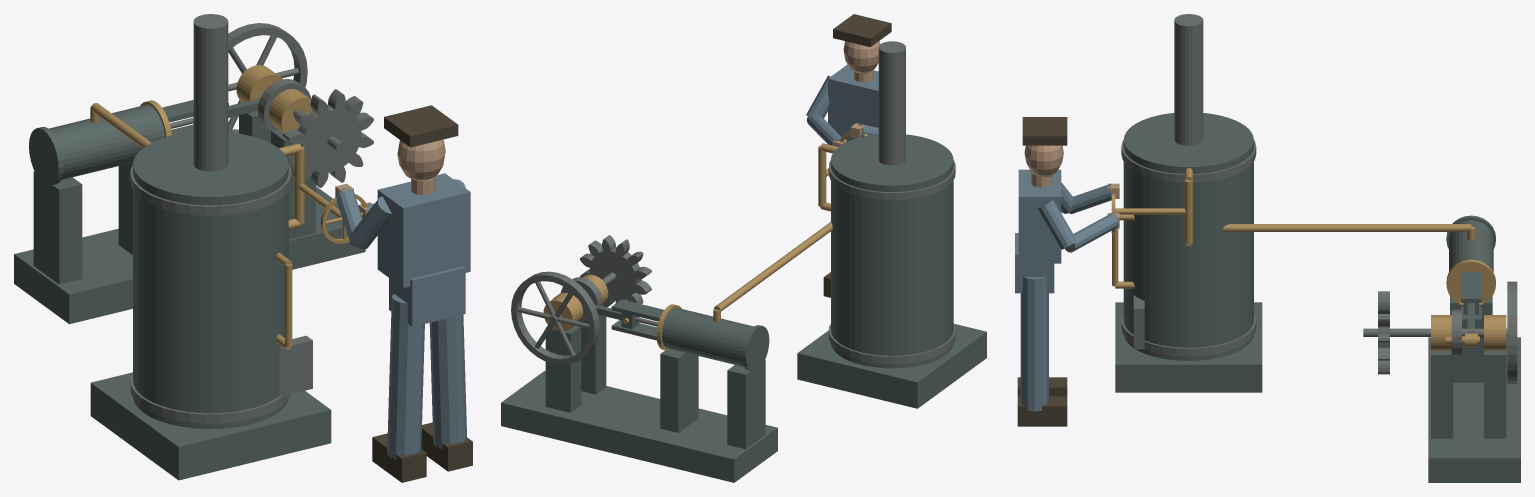
Rendered from steam-drive.glb.
The picture shows the model from 3 angles, left to right: view 1: azimuth 30°, elevation 25°; view 2: azimuth 150°, elevation 25°; view 3: azimuth 270°, elevation 25°; orthographic projection. The views are drawn at different scales.
Parts seen in each view (by area): view 1: boiler-shell.004, boiler-foot.004, engine-bed.004, operator-coat.004, boiler-chimney.004, involute-pinion-12.004, operator-trouser.008, cylinder-foot.008, steam-cylinder.004, operator-trouser.009, operator-pelvis.004, operator-cap.004 (+20 smaller); view 2: boiler-shell.004, engine-bed.004, boiler-foot.004, steam-cylinder.004, boiler-chimney.004, cylinder-foot.008, cylinder-foot.009, involute-pinion-12.004, operator-coat.004, flywheel-rim.004, bearing-pedestal.008, bearing-pedestal.009 (+9 smaller); view 3: boiler-shell.004, engine-bed.004, boiler-foot.004, boiler-chimney.004, operator-trouser.009, operator-coat.004, bearing-pedestal.008, bearing-pedestal.009, steam-pipe.023, steam-cylinder.004, cylinder-foot.009, operator-cap.004 (+17 smaller).
Part boxes in pixels (bbox=[...]): boiler-shell.004: bbox=[133, 132, 288, 428]; boiler-foot.004: bbox=[90, 372, 331, 480]; engine-bed.004: bbox=[14, 186, 365, 324]; operator-coat.004: bbox=[377, 173, 470, 287]; boiler-chimney.004: bbox=[193, 14, 228, 171]; involute-pinion-12.004: bbox=[282, 89, 373, 187]; operator-trouser.008: bbox=[387, 294, 424, 459]; cylinder-foot.008: bbox=[33, 171, 82, 284]; steam-cylinder.004: bbox=[49, 104, 164, 179]; operator-trouser.009: bbox=[429, 314, 466, 449]; operator-pelvis.004: bbox=[389, 266, 465, 326]; operator-cap.004: bbox=[384, 105, 458, 147]; boiler-shell.004: bbox=[831, 134, 953, 368]; engine-bed.004: bbox=[501, 371, 777, 482]; boiler-foot.004: bbox=[797, 323, 986, 408]; steam-cylinder.004: bbox=[662, 307, 753, 366]; boiler-chimney.004: bbox=[878, 41, 905, 165]; cylinder-foot.008: bbox=[727, 360, 765, 449]; cylinder-foot.009: bbox=[660, 349, 698, 432]; involute-pinion-12.004: bbox=[579, 235, 651, 307]; operator-coat.004: bbox=[828, 64, 878, 141]; flywheel-rim.004: bbox=[511, 271, 599, 365]; bearing-pedestal.008: bbox=[545, 325, 581, 412]; bearing-pedestal.009: bbox=[580, 314, 606, 394]; boiler-shell.004: bbox=[1123, 113, 1253, 360]; engine-bed.004: bbox=[1428, 337, 1520, 482]; boiler-foot.004: bbox=[1115, 302, 1262, 392]; boiler-chimney.004: bbox=[1174, 14, 1203, 145]; operator-trouser.009: bbox=[1020, 277, 1048, 411]; operator-coat.004: bbox=[1018, 169, 1061, 263]; bearing-pedestal.008: bbox=[1484, 350, 1506, 438]; bearing-pedestal.009: bbox=[1431, 350, 1453, 438]; steam-pipe.023: bbox=[1222, 224, 1471, 231]; steam-cylinder.004: bbox=[1449, 220, 1493, 271]; cylinder-foot.009: bbox=[1450, 296, 1492, 382]; operator-cap.004: bbox=[1022, 117, 1067, 145].
Bounding box in the file's own units: 2.11 × 2.2 × 2.96.
